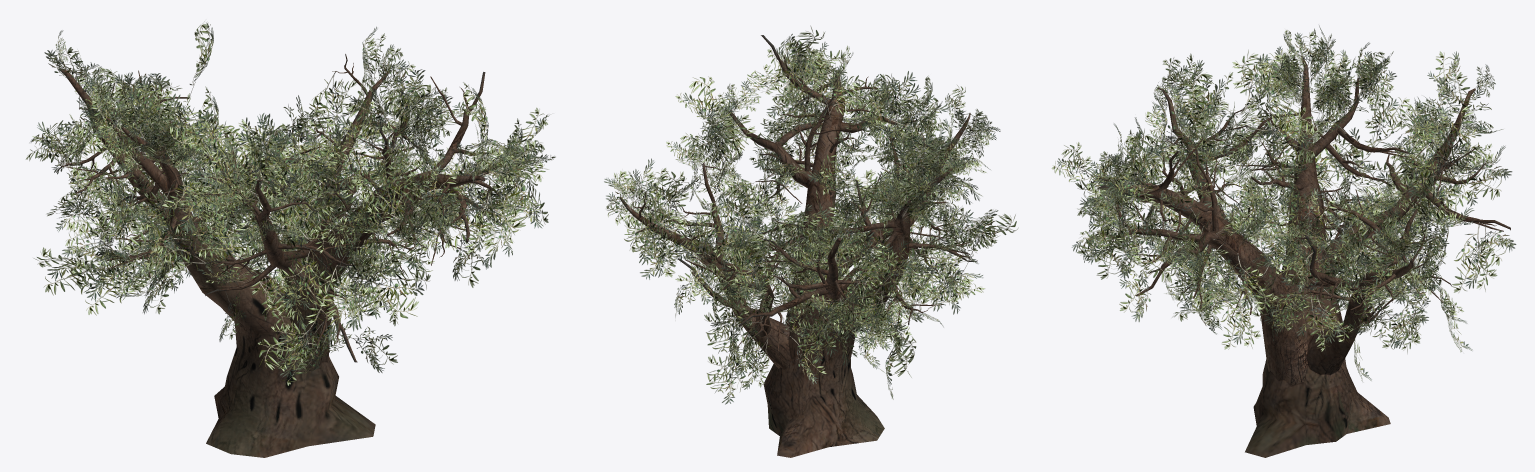
File: old_olive_tree.gltf
The picture shows the model from 3 angles, left to right: view 1: azimuth 30°, elevation 25°; view 2: azimuth 150°, elevation 25°; view 3: azimuth 270°, elevation 25°; orthographic projection. The views are drawn at different scales.
Parts seen in each view (by area): view 1: Object_2, Object_4, Object_3; view 2: Object_2, Object_4, Object_3; view 3: Object_2, Object_4, Object_3.
Boxes of the visible parts, x1,y1,x2,y2 form: Object_2: [25, 22, 555, 385]; Object_4: [59, 68, 515, 457]; Object_3: [56, 54, 498, 362]; Object_2: [604, 26, 1018, 404]; Object_4: [619, 70, 970, 457]; Object_3: [632, 35, 977, 351]; Object_2: [1052, 25, 1516, 381]; Object_4: [1097, 55, 1485, 457]; Object_3: [1085, 109, 1510, 334].
Bounding box in the file's own units: 5.26 × 4.61 × 5.65.
2 materials, 2 textured.
